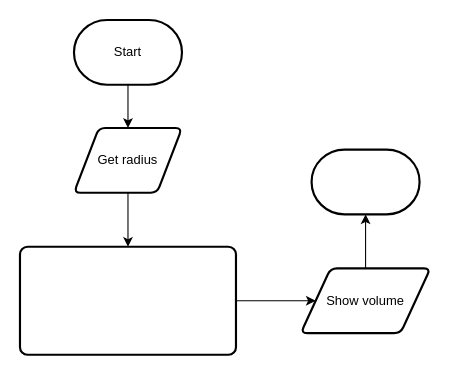
This 449x374 diagram has some shape labels left out. Each missing label, with the centre of its shape:
"Stop" belongs at point 365,181.
"volume = 4/3 * π * r ³" belongs at point 127,300.
